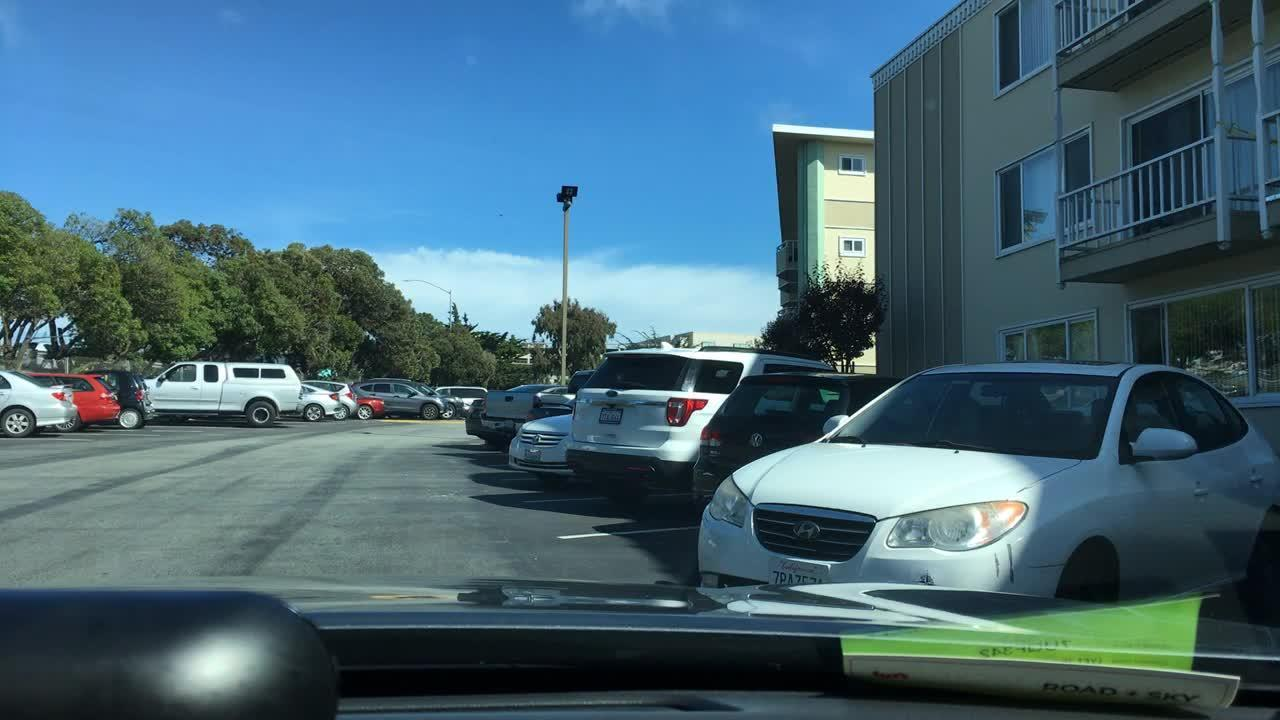Hyundai: (790, 517, 825, 544)
Volkswagen: (745, 429, 766, 449)
